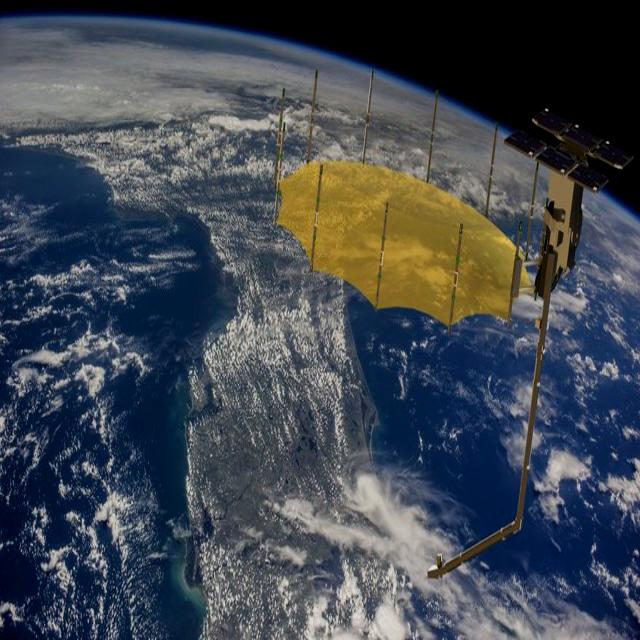medium_debris: (265, 44, 638, 584)
